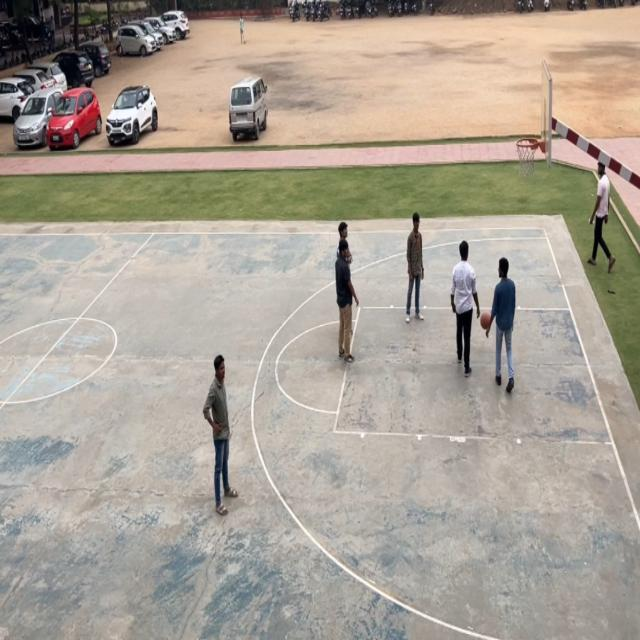basketball: (480, 310, 491, 329)
hoop: (515, 136, 538, 180)
